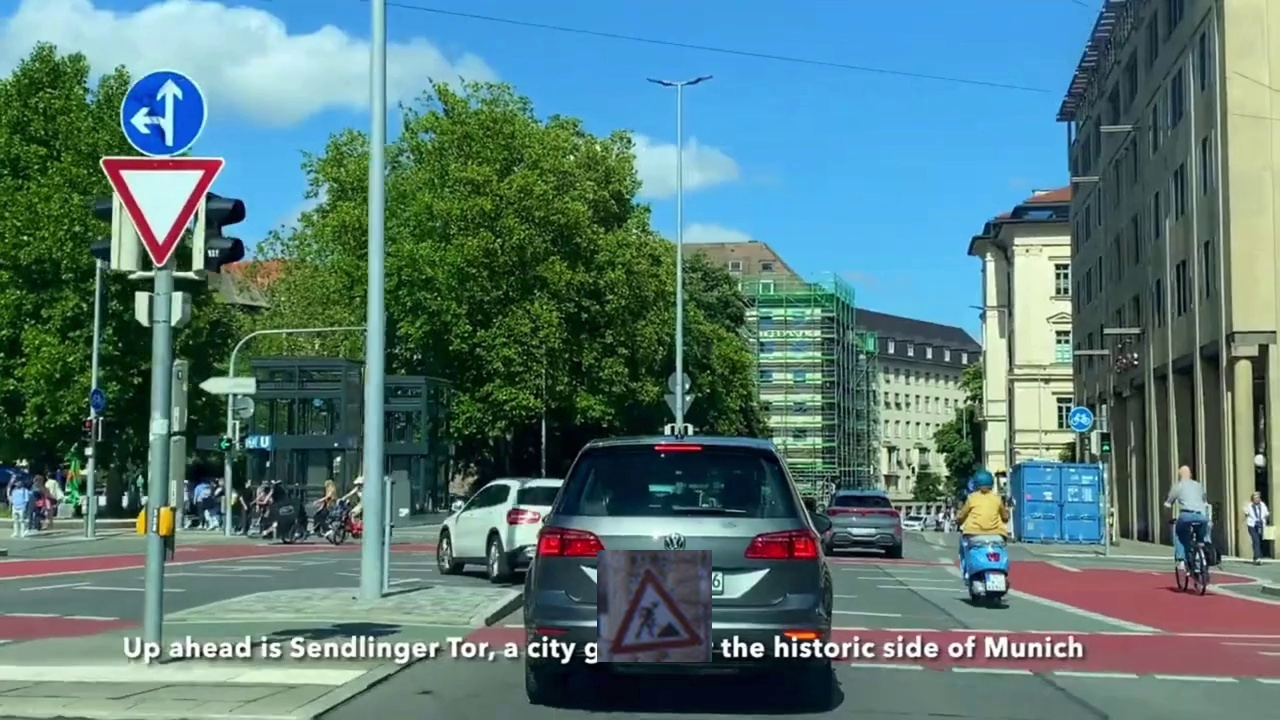Road work: (597, 550, 712, 662)
